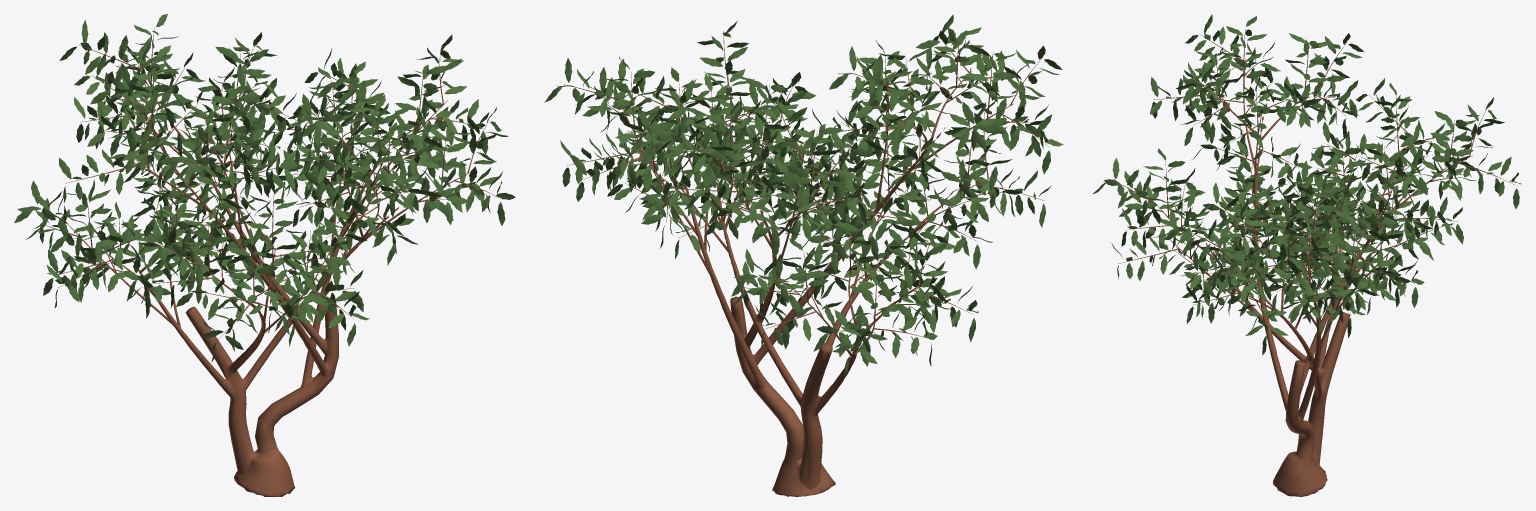
File: Arbousier_0_Niveau0.fbx
3 views of the same model, side by side, from view 1: azimuth 30°, elevation 25°; view 2: azimuth 150°, elevation 25°; view 3: azimuth 270°, elevation 25° (orthographic). The views are drawn at different scales.
Visible parts, largest first — view 1: Arbousier_0_Niveau0_Jeu; view 2: Arbousier_0_Niveau0_Jeu; view 3: Arbousier_0_Niveau0_Jeu.
Boxes of the visible parts, bbox=[...] form: Arbousier_0_Niveau0_Jeu: bbox=[14, 14, 515, 496]; Arbousier_0_Niveau0_Jeu: bbox=[544, 14, 1063, 496]; Arbousier_0_Niveau0_Jeu: bbox=[1092, 14, 1521, 496].
Bounding box in the file's own units: 215 × 212 × 204.
